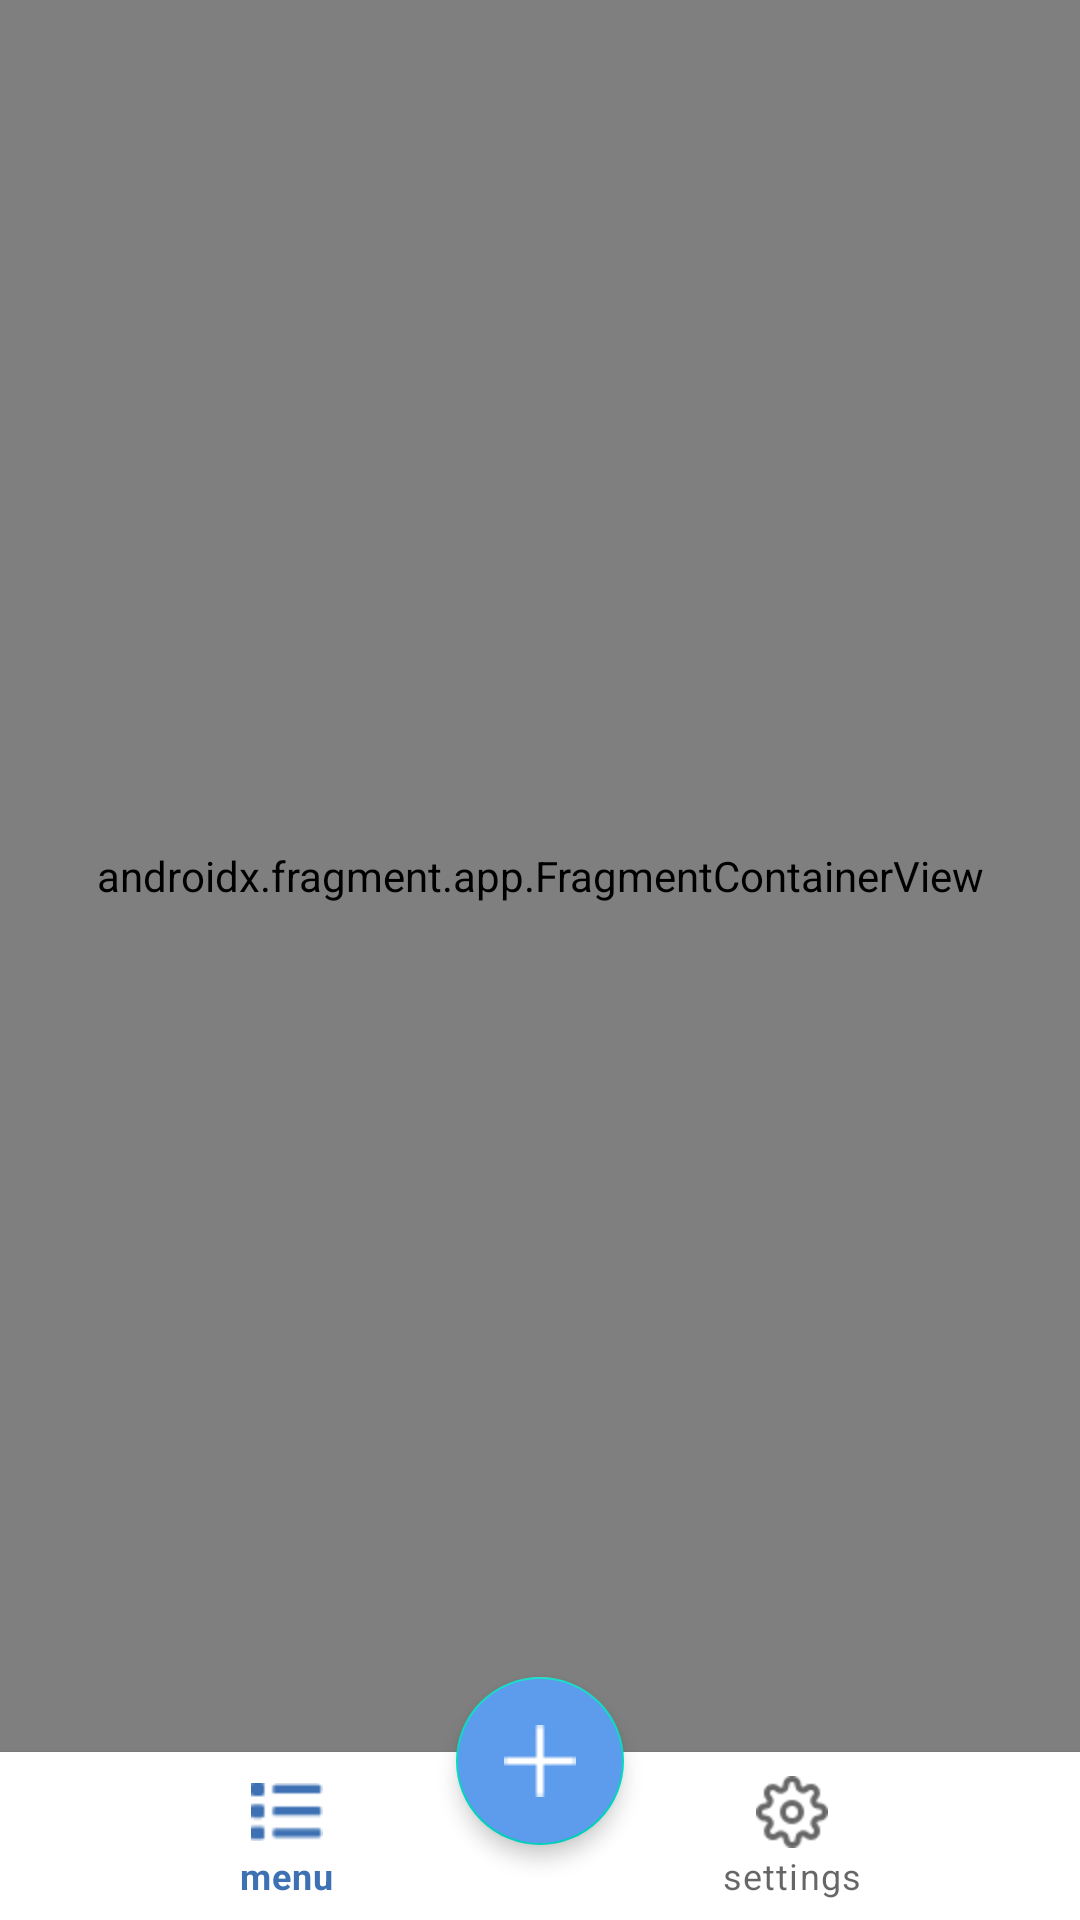

Point at icon controls on the screen. Image size 1080×1920, points as (x=x, y=y).
floatinaddbottomsheetbutton: (x=540, y=1761)
